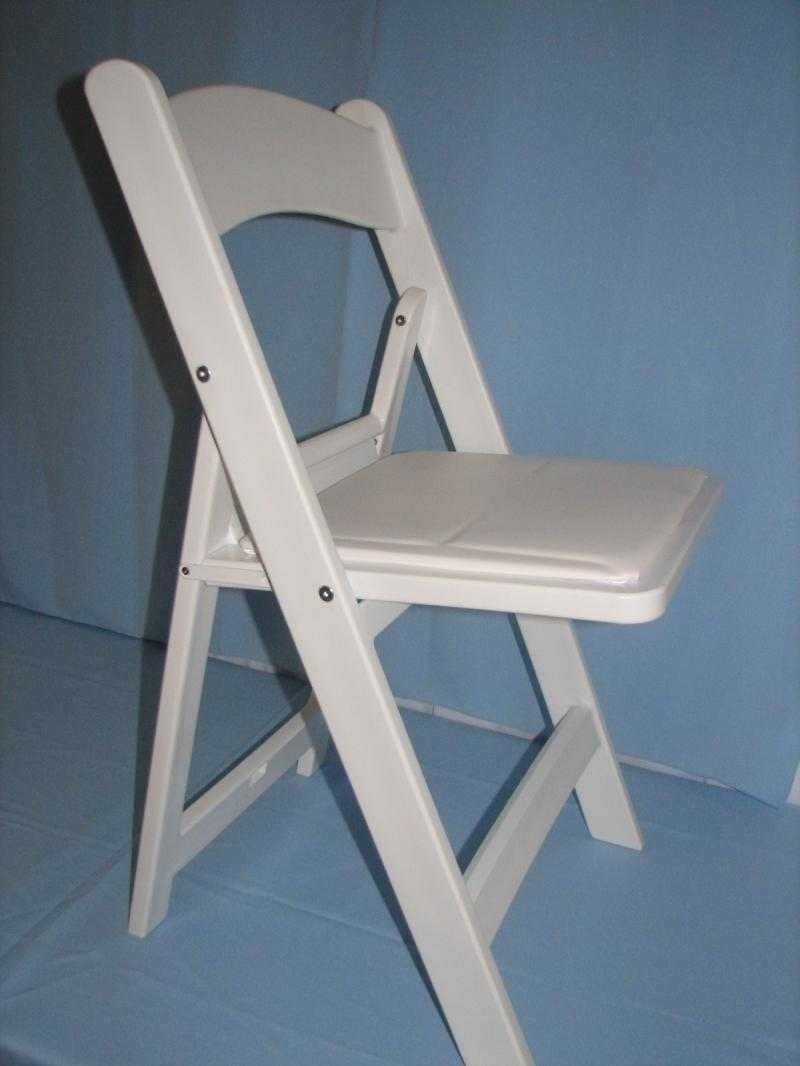obstacle: (86, 61, 719, 1065)
